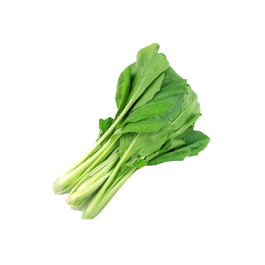Sawi: (43, 40, 230, 229)
